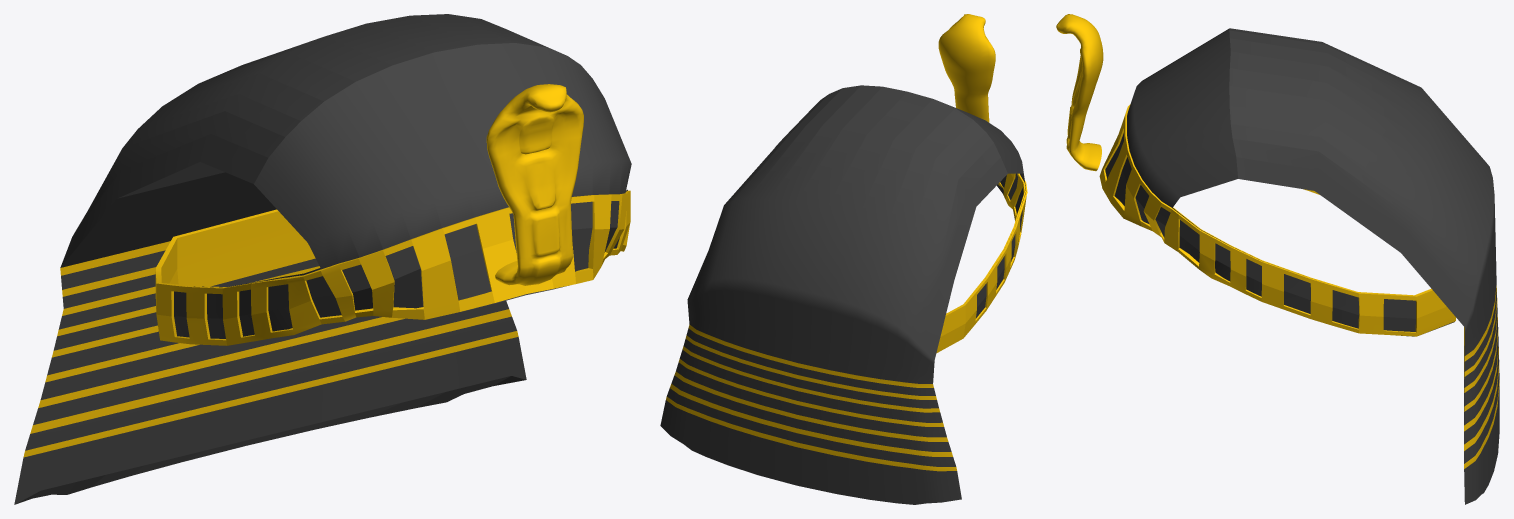
The model's file is queen hair B.fbx.
3 renders of one model, left to right at view 1: azimuth 30°, elevation 25°; view 2: azimuth 150°, elevation 25°; view 3: azimuth 270°, elevation 25°, orthographic. The views are drawn at different scales.
Visible parts, largest first — view 1: polySurface1981; view 2: polySurface1981; view 3: polySurface1981.
Boxes of the visible parts, x1,y1,x2,y2 form: polySurface1981: [14, 14, 631, 504]; polySurface1981: [660, 14, 1027, 504]; polySurface1981: [1056, 14, 1499, 504].
Size of the model in its own units: 34.38 by 37.05 by 36.1.
